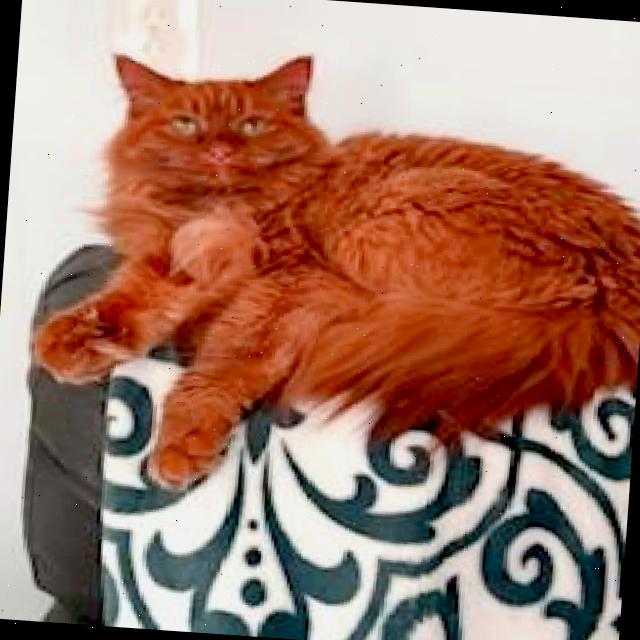maine_coon_cat: (93, 34, 348, 215)
